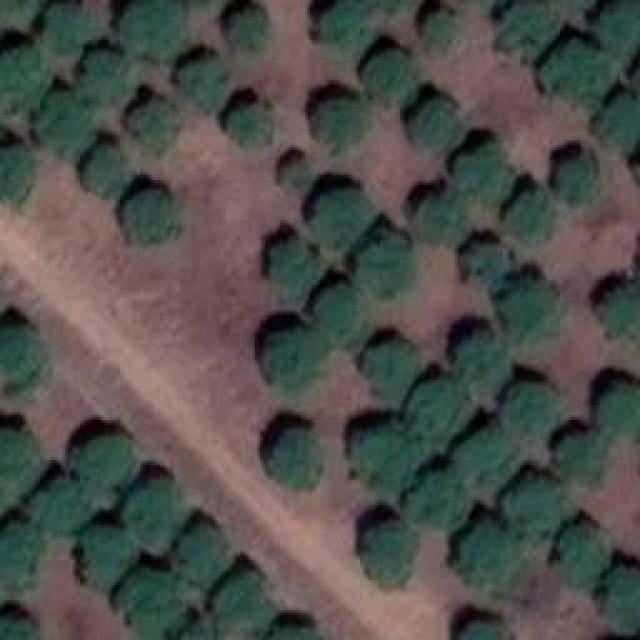Tree: (63, 425, 142, 495), (458, 520, 526, 592), (347, 425, 418, 489), (117, 568, 187, 631), (537, 43, 609, 104), (310, 180, 378, 244), (203, 570, 277, 626), (120, 478, 184, 542), (260, 328, 325, 390), (358, 230, 419, 294), (500, 270, 560, 335), (488, 0, 556, 56), (118, 0, 187, 55), (118, 185, 181, 245), (408, 375, 468, 438), (0, 318, 44, 403), (265, 228, 326, 289), (358, 518, 417, 581), (495, 378, 555, 439), (455, 427, 518, 484), (30, 93, 88, 154), (265, 423, 322, 485), (165, 532, 227, 589), (555, 520, 612, 582), (448, 327, 507, 386), (410, 473, 469, 532), (72, 527, 132, 584), (77, 47, 136, 104), (500, 180, 557, 239), (361, 335, 418, 393), (308, 90, 368, 145), (503, 480, 564, 534), (32, 477, 89, 534), (417, 190, 476, 245), (305, 283, 362, 339), (550, 433, 603, 492), (592, 375, 640, 440), (600, 560, 639, 640), (220, 93, 274, 149), (180, 50, 227, 113), (592, 278, 640, 339), (78, 143, 134, 195), (130, 97, 181, 154), (455, 137, 505, 195), (364, 50, 418, 103), (0, 418, 35, 498), (408, 98, 461, 150), (220, 0, 274, 51), (0, 43, 42, 108), (460, 235, 513, 285), (555, 148, 603, 203), (35, 0, 89, 48), (0, 133, 35, 207), (315, 3, 368, 51), (603, 5, 640, 66), (602, 90, 639, 151), (2, 520, 35, 588), (416, 3, 458, 52), (273, 145, 311, 187), (450, 615, 513, 640), (265, 615, 318, 640), (0, 607, 40, 640), (168, 620, 218, 640)
